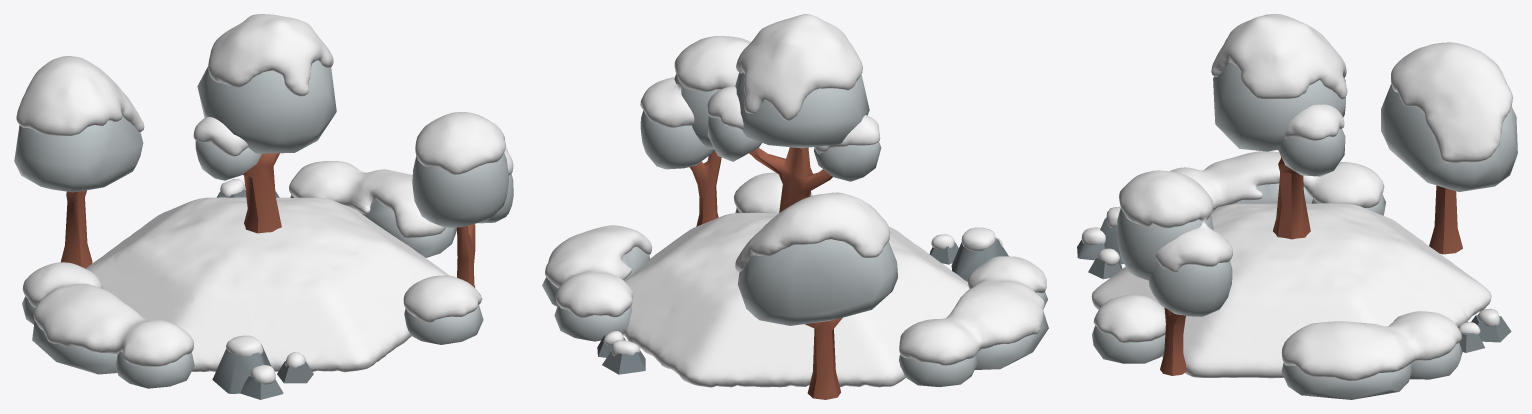
Rendered from detail_hill.fbx.
3 renders of one model, left to right at view 1: azimuth 30°, elevation 25°; view 2: azimuth 150°, elevation 25°; view 3: azimuth 270°, elevation 25°, orthographic.
Parts seen in each view (by area): view 1: SnowBall.003, SnowBall.002, detail_hill.003, detail_hill.002, detail_hill, SnowBall.001; view 2: SnowBall.002, SnowBall.003, detail_hill.003, detail_hill.002, detail_hill, SnowBall.001; view 3: SnowBall.002, SnowBall.003, detail_hill.003, detail_hill.002, detail_hill, SnowBall.001.
Part boxes in pixels (x1,y1,x2,y2): SnowBall.003: (85,197,448,372); SnowBall.002: (16,14,513,366); detail_hill.003: (14,60,513,388); detail_hill.002: (61,153,475,287); detail_hill: (212,189,313,399); SnowBall.001: (220,179,305,384); SnowBall.002: (545,14,1046,365); SnowBall.003: (623,212,969,387); detail_hill.003: (542,72,1048,386); detail_hill.002: (689,147,842,399); detail_hill: (597,238,1008,374); SnowBall.001: (603,227,1002,355); SnowBall.002: (1093,14,1512,380); SnowBall.003: (1091,203,1491,378); detail_hill.003: (1092,62,1517,399); detail_hill.002: (1160,149,1462,375); detail_hill: (1077,217,1511,352); SnowBall.001: (1081,206,1499,334).
Size of the model in its own units: 182 by 114 by 159.
